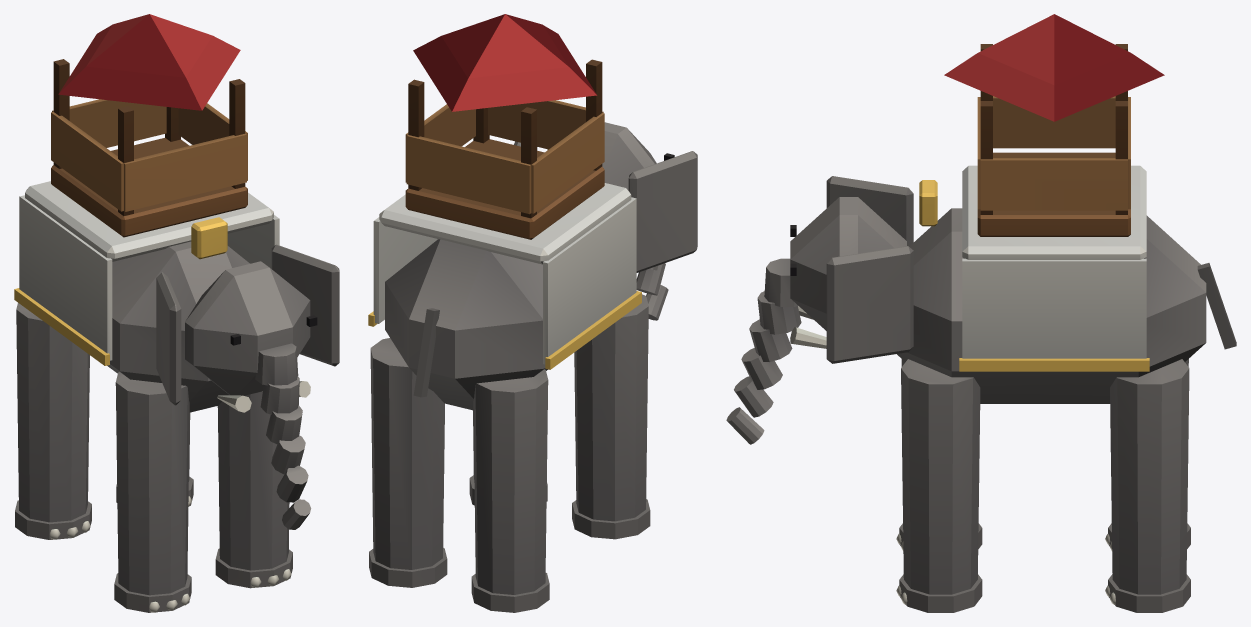
File: boss_elephant.glb
The picture shows the model from 3 angles, left to right: view 1: azimuth 30°, elevation 25°; view 2: azimuth 150°, elevation 25°; view 3: azimuth 270°, elevation 25°; orthographic projection. The views are drawn at different scales.
Parts seen in each view (by area): view 1: Gear, boss_elephant, leg0, Primary, leg2, leg1, trunk; view 2: Gear, boss_elephant, Primary, leg2, leg3, leg0, trunk; view 3: boss_elephant, Gear, Primary, leg1, leg3, trunk.
Part boxes in pixels (x1,y1,x2,y2): Gear: [14, 14, 247, 365]; boss_elephant: [107, 241, 339, 412]; leg0: [114, 372, 191, 612]; Primary: [19, 181, 279, 360]; leg2: [15, 303, 91, 539]; leg1: [215, 391, 292, 588]; trunk: [255, 343, 311, 529]; Gear: [368, 14, 641, 369]; boss_elephant: [385, 122, 697, 410]; Primary: [373, 183, 636, 364]; leg2: [471, 369, 549, 612]; leg3: [369, 338, 447, 587]; leg0: [572, 294, 650, 539]; trunk: [636, 263, 668, 320]; boss_elephant: [790, 176, 1236, 403]; Gear: [919, 14, 1164, 371]; Primary: [962, 165, 1146, 358]; leg1: [896, 359, 982, 612]; leg3: [1105, 359, 1190, 612]; trunk: [726, 258, 801, 444].
Bounding box in the file's own units: 0.72 × 2 × 1.66.
